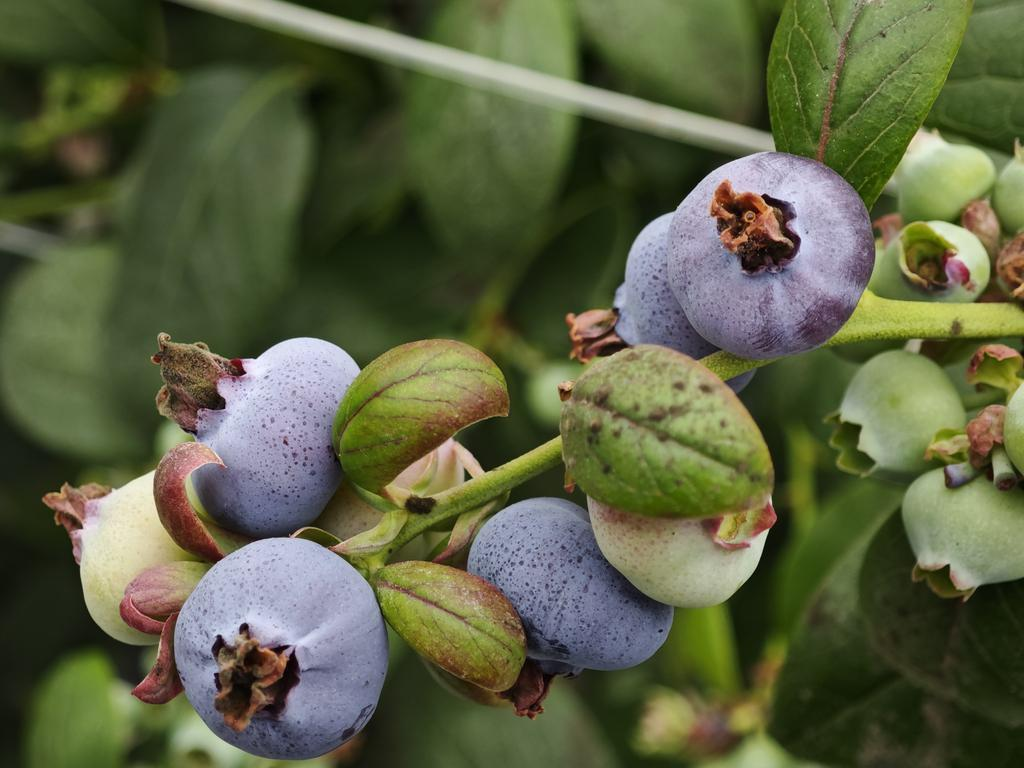RipeBlueBerry: (167, 533, 392, 763), (663, 148, 878, 363), (463, 494, 677, 680), (175, 330, 362, 534)
